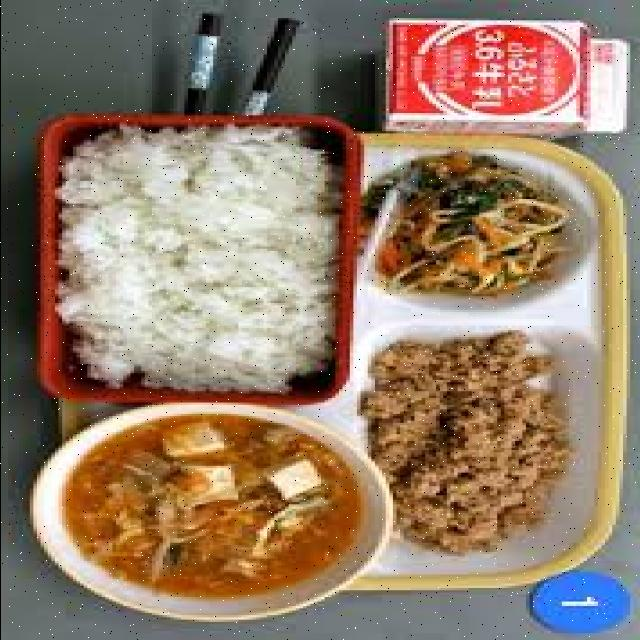Non green veg: (381, 154, 568, 294)
Pork: (363, 332, 572, 552)
Rice: (61, 129, 338, 391)
Tofu: (183, 461, 237, 504), (165, 423, 227, 457), (266, 459, 320, 498)
